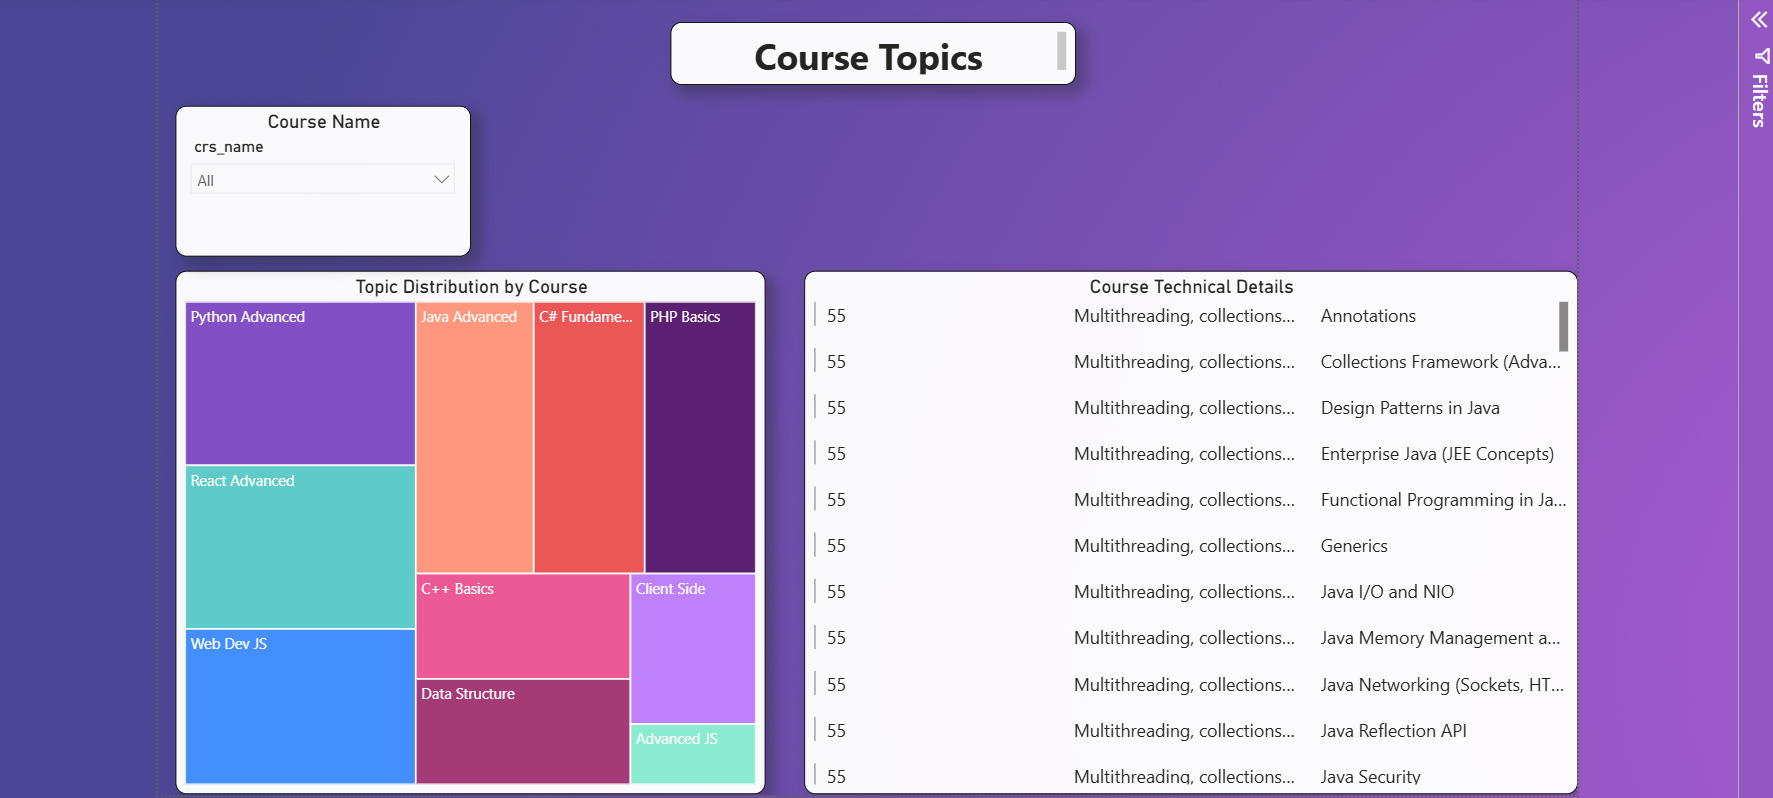

The dashboard page shown, as its layout file describes it:
{"tool":"powerbi","page":{"name":"Course Topics","canvas":[1280,720],"ordinal":3},"visuals":[{"type":"treemap","title":"Topic Distribution by Course","fields":{"Group":["Course.crs_name"],"Values":["CountNonNull(Course_Topic.crs_topic)"]},"box":[15.5,247.3,532.4,472.3],"z":0},{"type":"multiRowCard","title":"Course Technical Details","fields":{"Values":["Sum(Course.crs_hours)","Course.crs_desc","Course_Topic.crs_topic"]},"box":[582.2,247.3,697.2,472.3],"z":1000},{"type":"textbox","box":[462,22.3,365.8,56.7],"z":2000},{"type":"slicer","title":"Course Name","fields":{"Values":["Course.crs_name"]},"box":[15.5,97.9,266.2,135.7],"z":3000}]}

Visuals, with their boxes in screenshot pixels (x1, y1, x2, y2):
"Topic Distribution by Course" treemap: 174/266/756/783
"Course Technical Details" multiRowCard: 794/266/1557/783
textbox: 662/20/1063/82
"Course Name" slicer: 174/102/465/251
